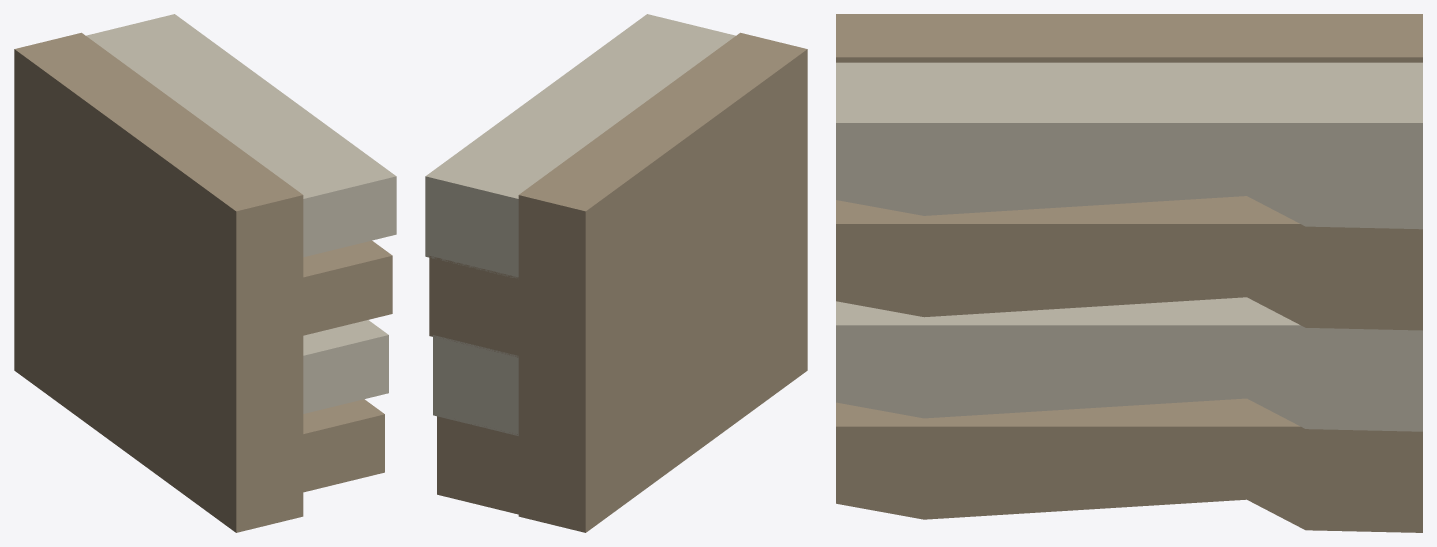
The model's file is Cliff__Face.fbx.
The picture shows the model from 3 angles, left to right: view 1: azimuth 30°, elevation 25°; view 2: azimuth 150°, elevation 25°; view 3: azimuth 270°, elevation 25°; orthographic projection. The views are drawn at different scales.
Visible parts, largest first — view 1: Cliff__Face; view 2: Cliff__Face; view 3: Cliff__Face.
Part boxes in pixels (left/top/right/bottom): Cliff__Face: left=14, top=14, right=396, bottom=532; Cliff__Face: left=425, top=14, right=807, bottom=532; Cliff__Face: left=836, top=14, right=1422, bottom=532.
Size of the model in its own units: 167 by 320 by 400.
1 material, 1 textured.
